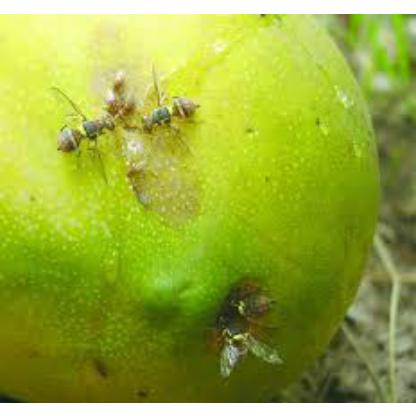damaged_apple: (21, 64, 349, 392)
